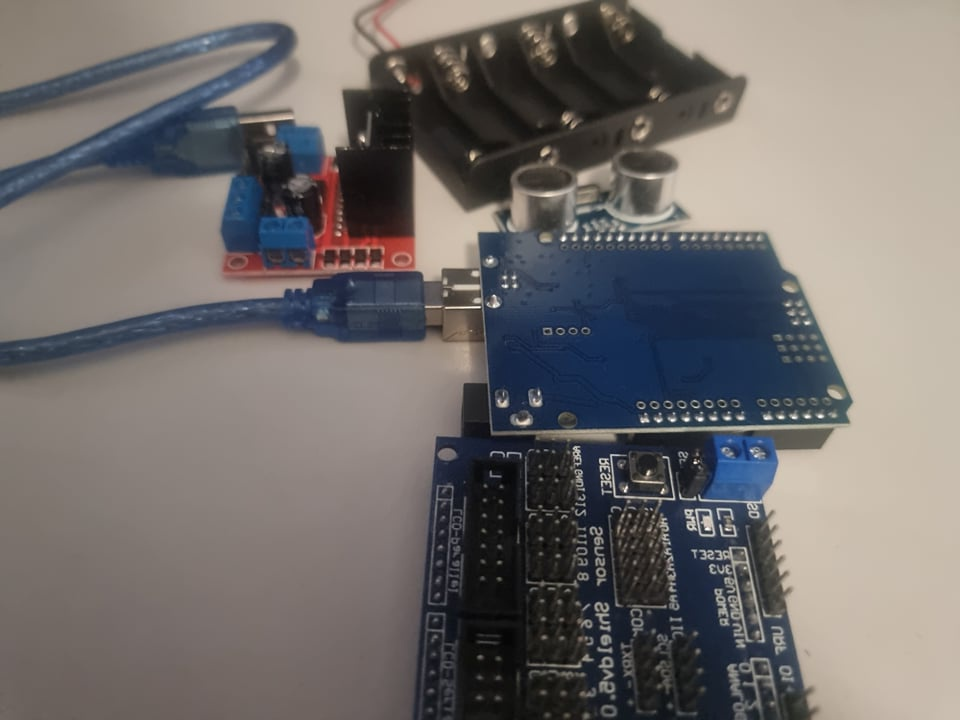5V EXPANSION: (413, 439, 812, 716)
BATTERY BOX: (372, 3, 747, 215)
MOTOR: (223, 85, 419, 279)
SENSOR: (494, 148, 690, 233)
UNO R3: (440, 222, 856, 438)
